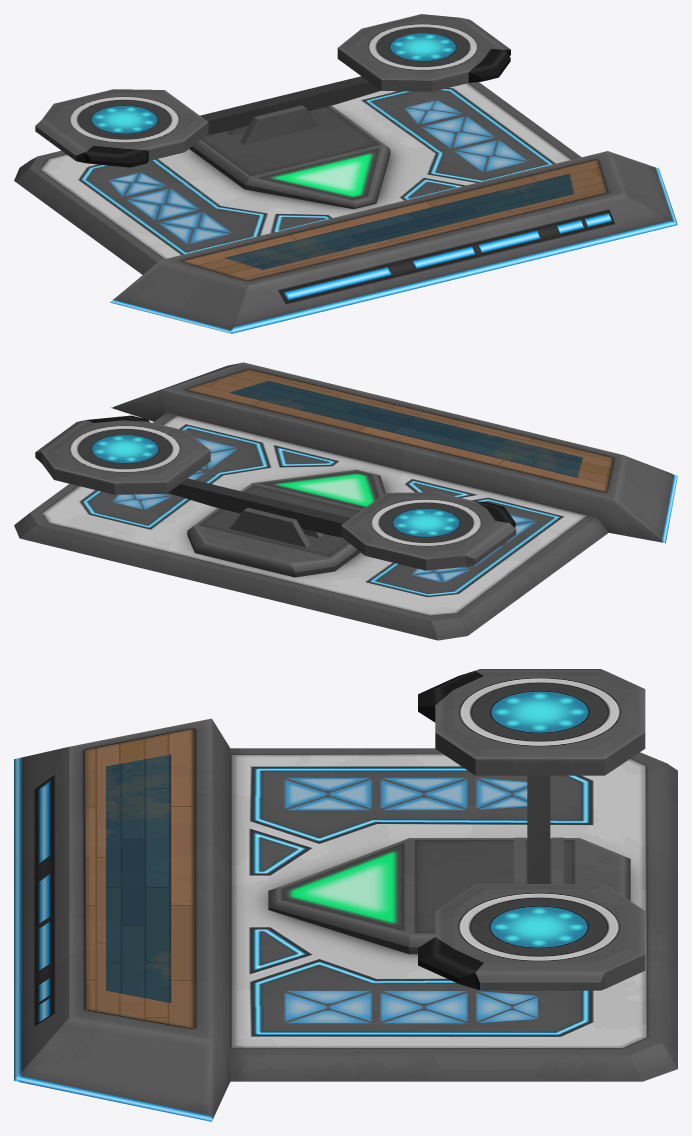
Rendered from Scales.fbx.
3 views of the same model, one above another, from view 1: azimuth 30°, elevation 25°; view 2: azimuth 150°, elevation 25°; view 3: azimuth 270°, elevation 25° (orthographic). The views are drawn at different scales.
Visible parts, largest first — view 1: Scales_Base, RightPlate, LeftPlate, ConnectingRod, ConRod_Hinge; view 2: Scales_Base, LeftPlate, RightPlate, ConnectingRod; view 3: Scales_Base, LeftPlate, RightPlate, ConnectingRod.
Boxes of the visible parts, <box> form: Scales_Base: <box>14,82,677,333</box>; RightPlate: <box>337,14,510,91</box>; LeftPlate: <box>35,89,208,167</box>; ConnectingRod: <box>200,76,380,135</box>; ConRod_Hinge: <box>240,105,319,144</box>; Scales_Base: <box>14,362,677,640</box>; LeftPlate: <box>341,492,516,570</box>; RightPlate: <box>35,415,210,494</box>; ConnectingRod: <box>168,478,350,537</box>; Scales_Base: <box>14,718,677,1121</box>; LeftPlate: <box>418,669,645,775</box>; RightPlate: <box>418,884,645,990</box>; ConnectingRod: <box>527,775,550,883</box>.
Bounding box in the file's own units: 907 × 112 × 643.
Materials: 1 (1 with a texture image).
